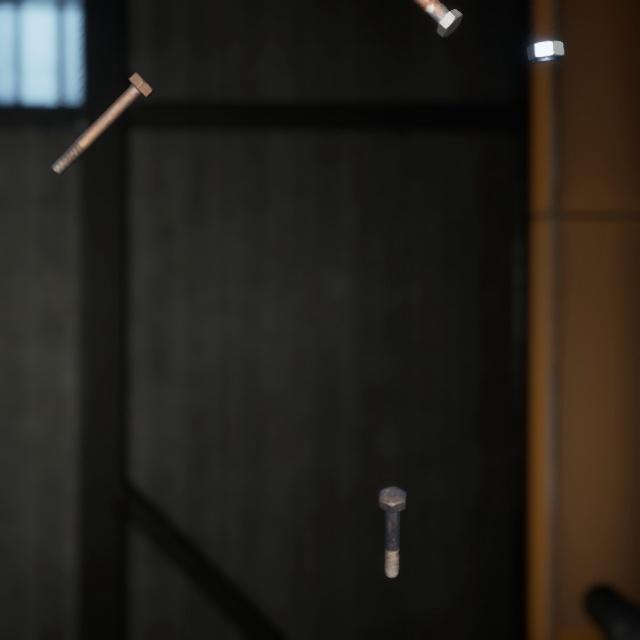bolt: (46, 55, 158, 167), (374, 460, 410, 561), (411, 0, 467, 37)
nut: (522, 26, 568, 56)
